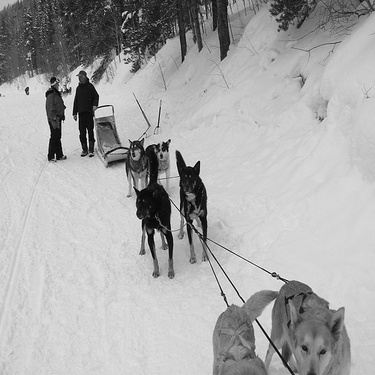dog: (108, 143, 185, 281), (258, 282, 357, 372), (196, 288, 292, 371), (169, 150, 220, 275), (142, 123, 178, 205), (120, 129, 151, 196)
